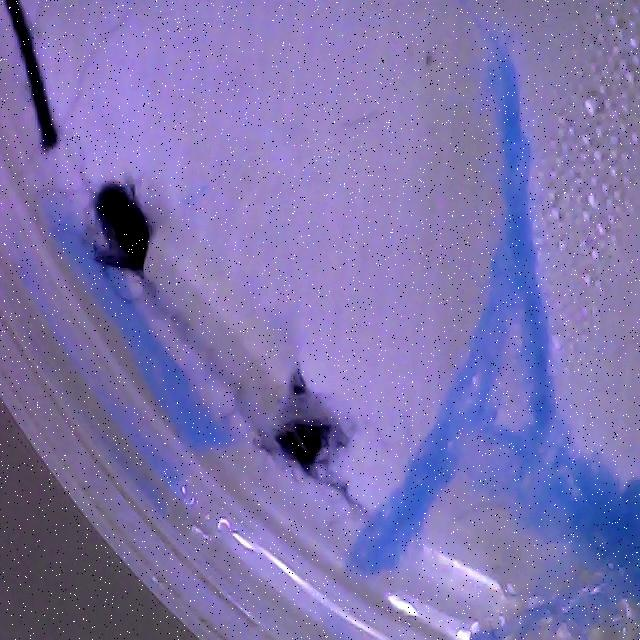fibers: (3, 0, 60, 150)
